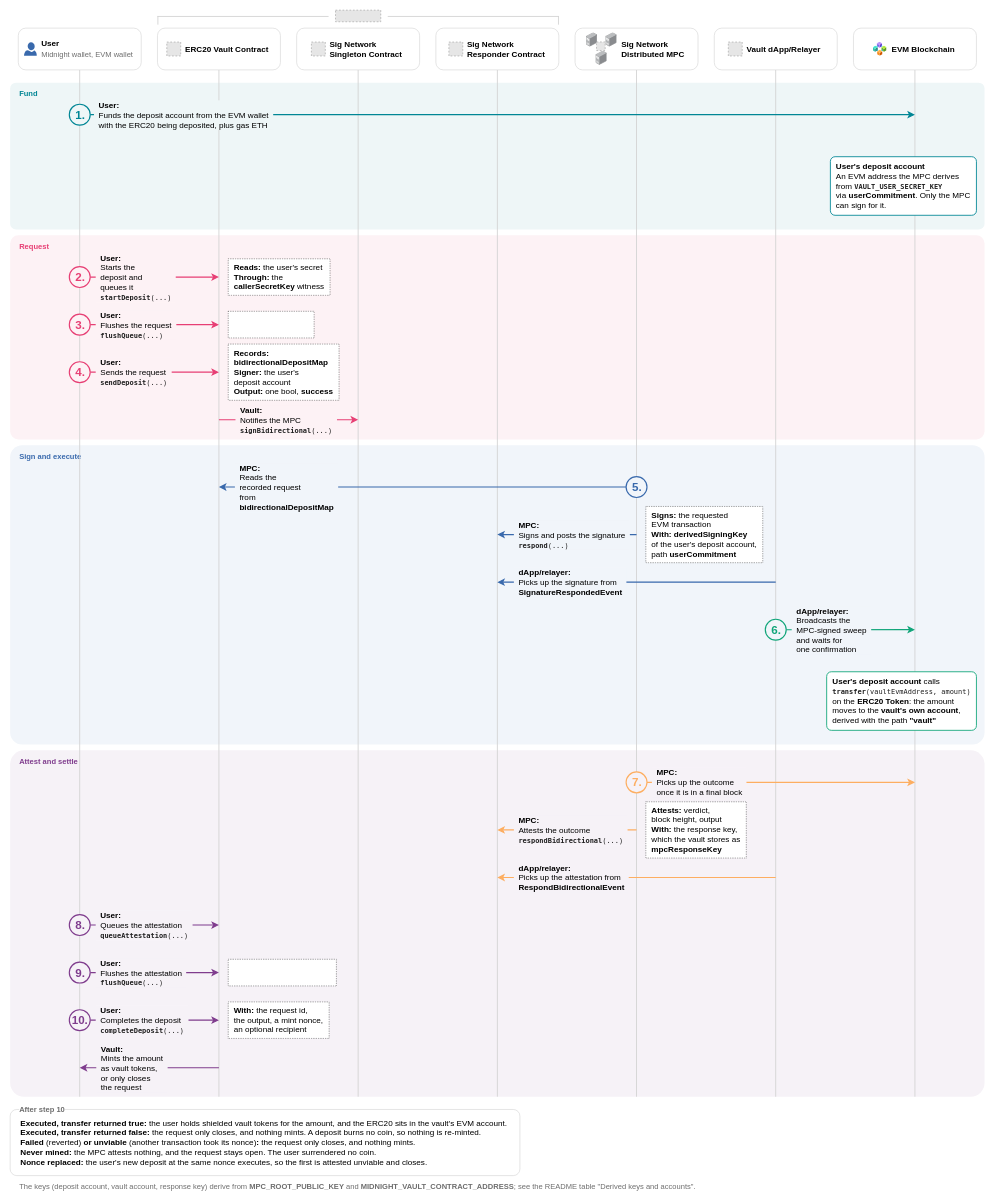
Image size: 995x1202. Some labels were removed from this diagram. Grey dashed boxes stand in for pictures. Each missing label, with the centre of its shape:
"Moves: the attestation into the output buffer" goes at point (282, 972).
"Moves: the request into the output buffer" goes at point (271, 324).
